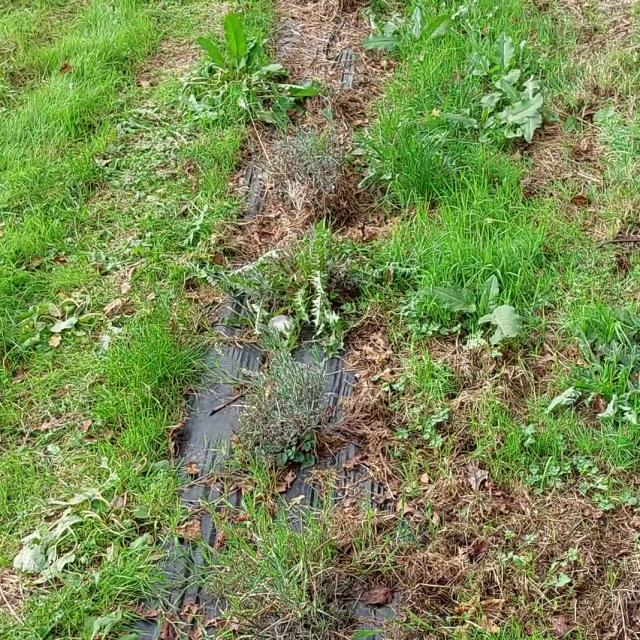organic waste: (165, 12, 340, 165), (15, 467, 159, 598), (443, 52, 568, 151), (429, 249, 542, 346), (11, 271, 126, 360), (562, 303, 640, 434), (381, 8, 492, 74), (461, 16, 530, 94)
